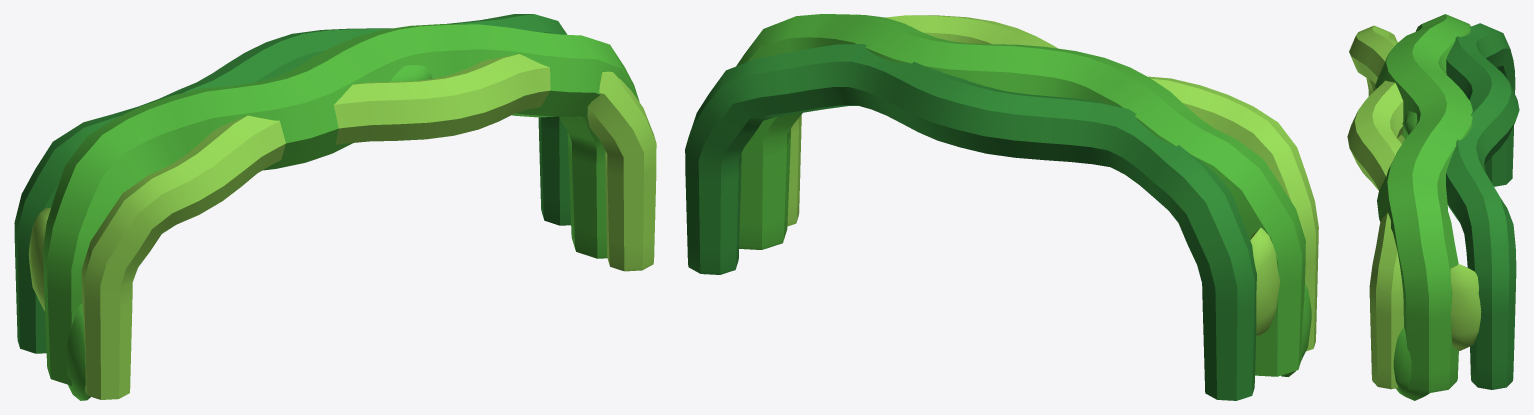
The model's file is weed_band.fbx.
3 renders of one model, left to right at view 1: azimuth 30°, elevation 25°; view 2: azimuth 150°, elevation 25°; view 3: azimuth 270°, elevation 25°, orthographic. The views are drawn at different scales.
Parts seen in each view (by area): view 1: weed_band; view 2: weed_band; view 3: weed_band.
Part boxes in pixels (left/top/right/bottom): weed_band: left=14, top=14, right=656, bottom=400; weed_band: left=685, top=14, right=1318, bottom=400; weed_band: left=1347, top=14, right=1519, bottom=400.
Size of the model in its own units: 1.09 by 0.4839 by 0.3444.
